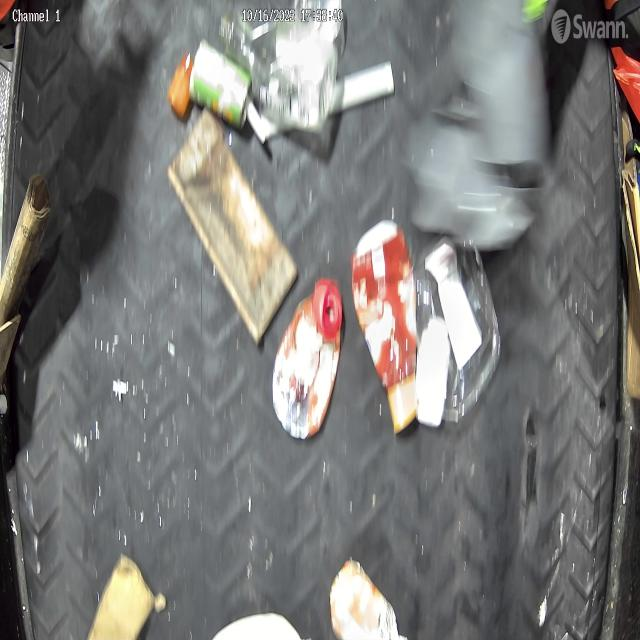can: (187, 40, 252, 129)
non_white_jug: (353, 210, 417, 437)
